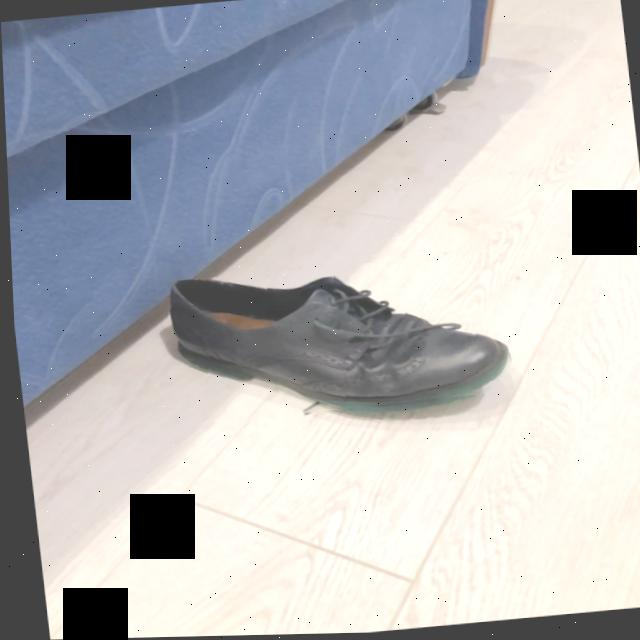shoe: (165, 280, 506, 408)
